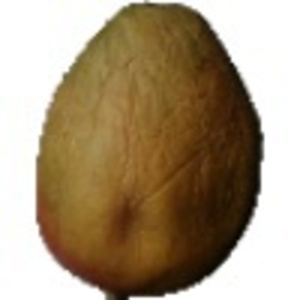mamão: (24, 4, 269, 290)
